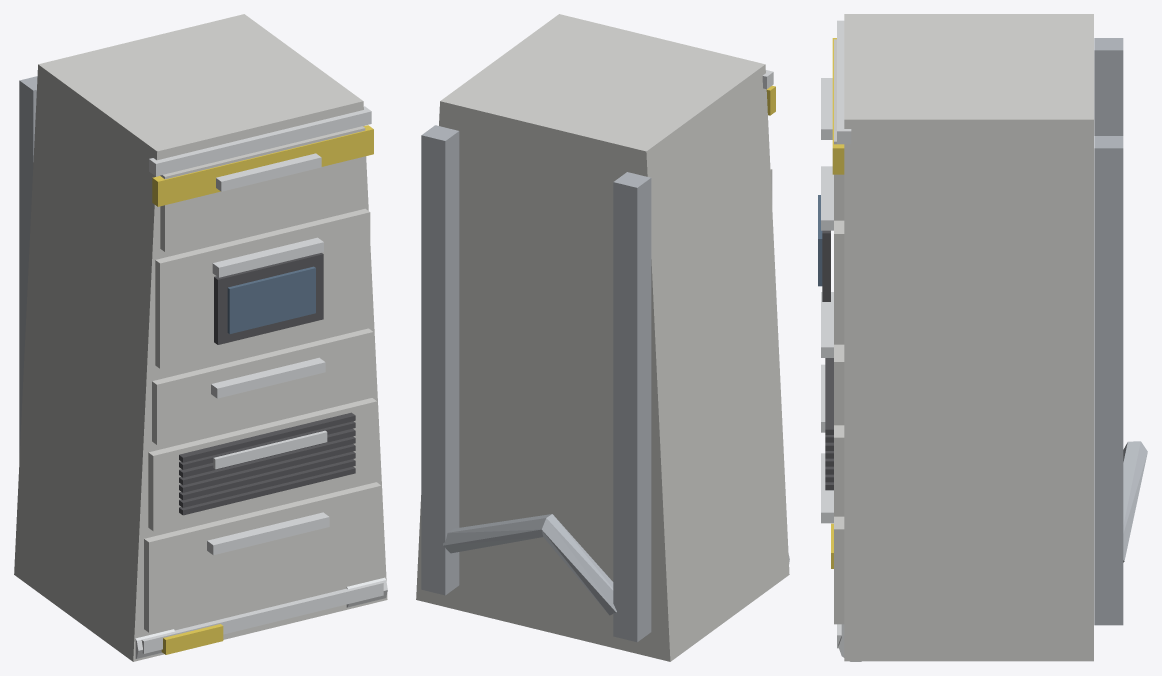
The model's file is orbital-station-and-docking-bays-equipment-rack-53257ba8__24570.glb.
3 renders of one model, left to right at view 1: azimuth 30°, elevation 25°; view 2: azimuth 150°, elevation 25°; view 3: azimuth 270°, elevation 25°, orthographic. The views are drawn at different scales.
Parts seen in each view (by area): view 1: equipment-rack, rack-tilt; view 2: equipment-rack; view 3: equipment-rack.
Boxes of the visible parts, x1=… form: equipment-rack: x1=14, y1=14, x2=387, y2=661; rack-tilt: x1=135, y1=577, x2=387, y2=658; equipment-rack: x1=416, y1=14, x2=789, y2=661; equipment-rack: x1=818, y1=14, x2=1147, y2=661.
Bounding box in the file's own units: 1.06 × 2.02 × 1.13.
